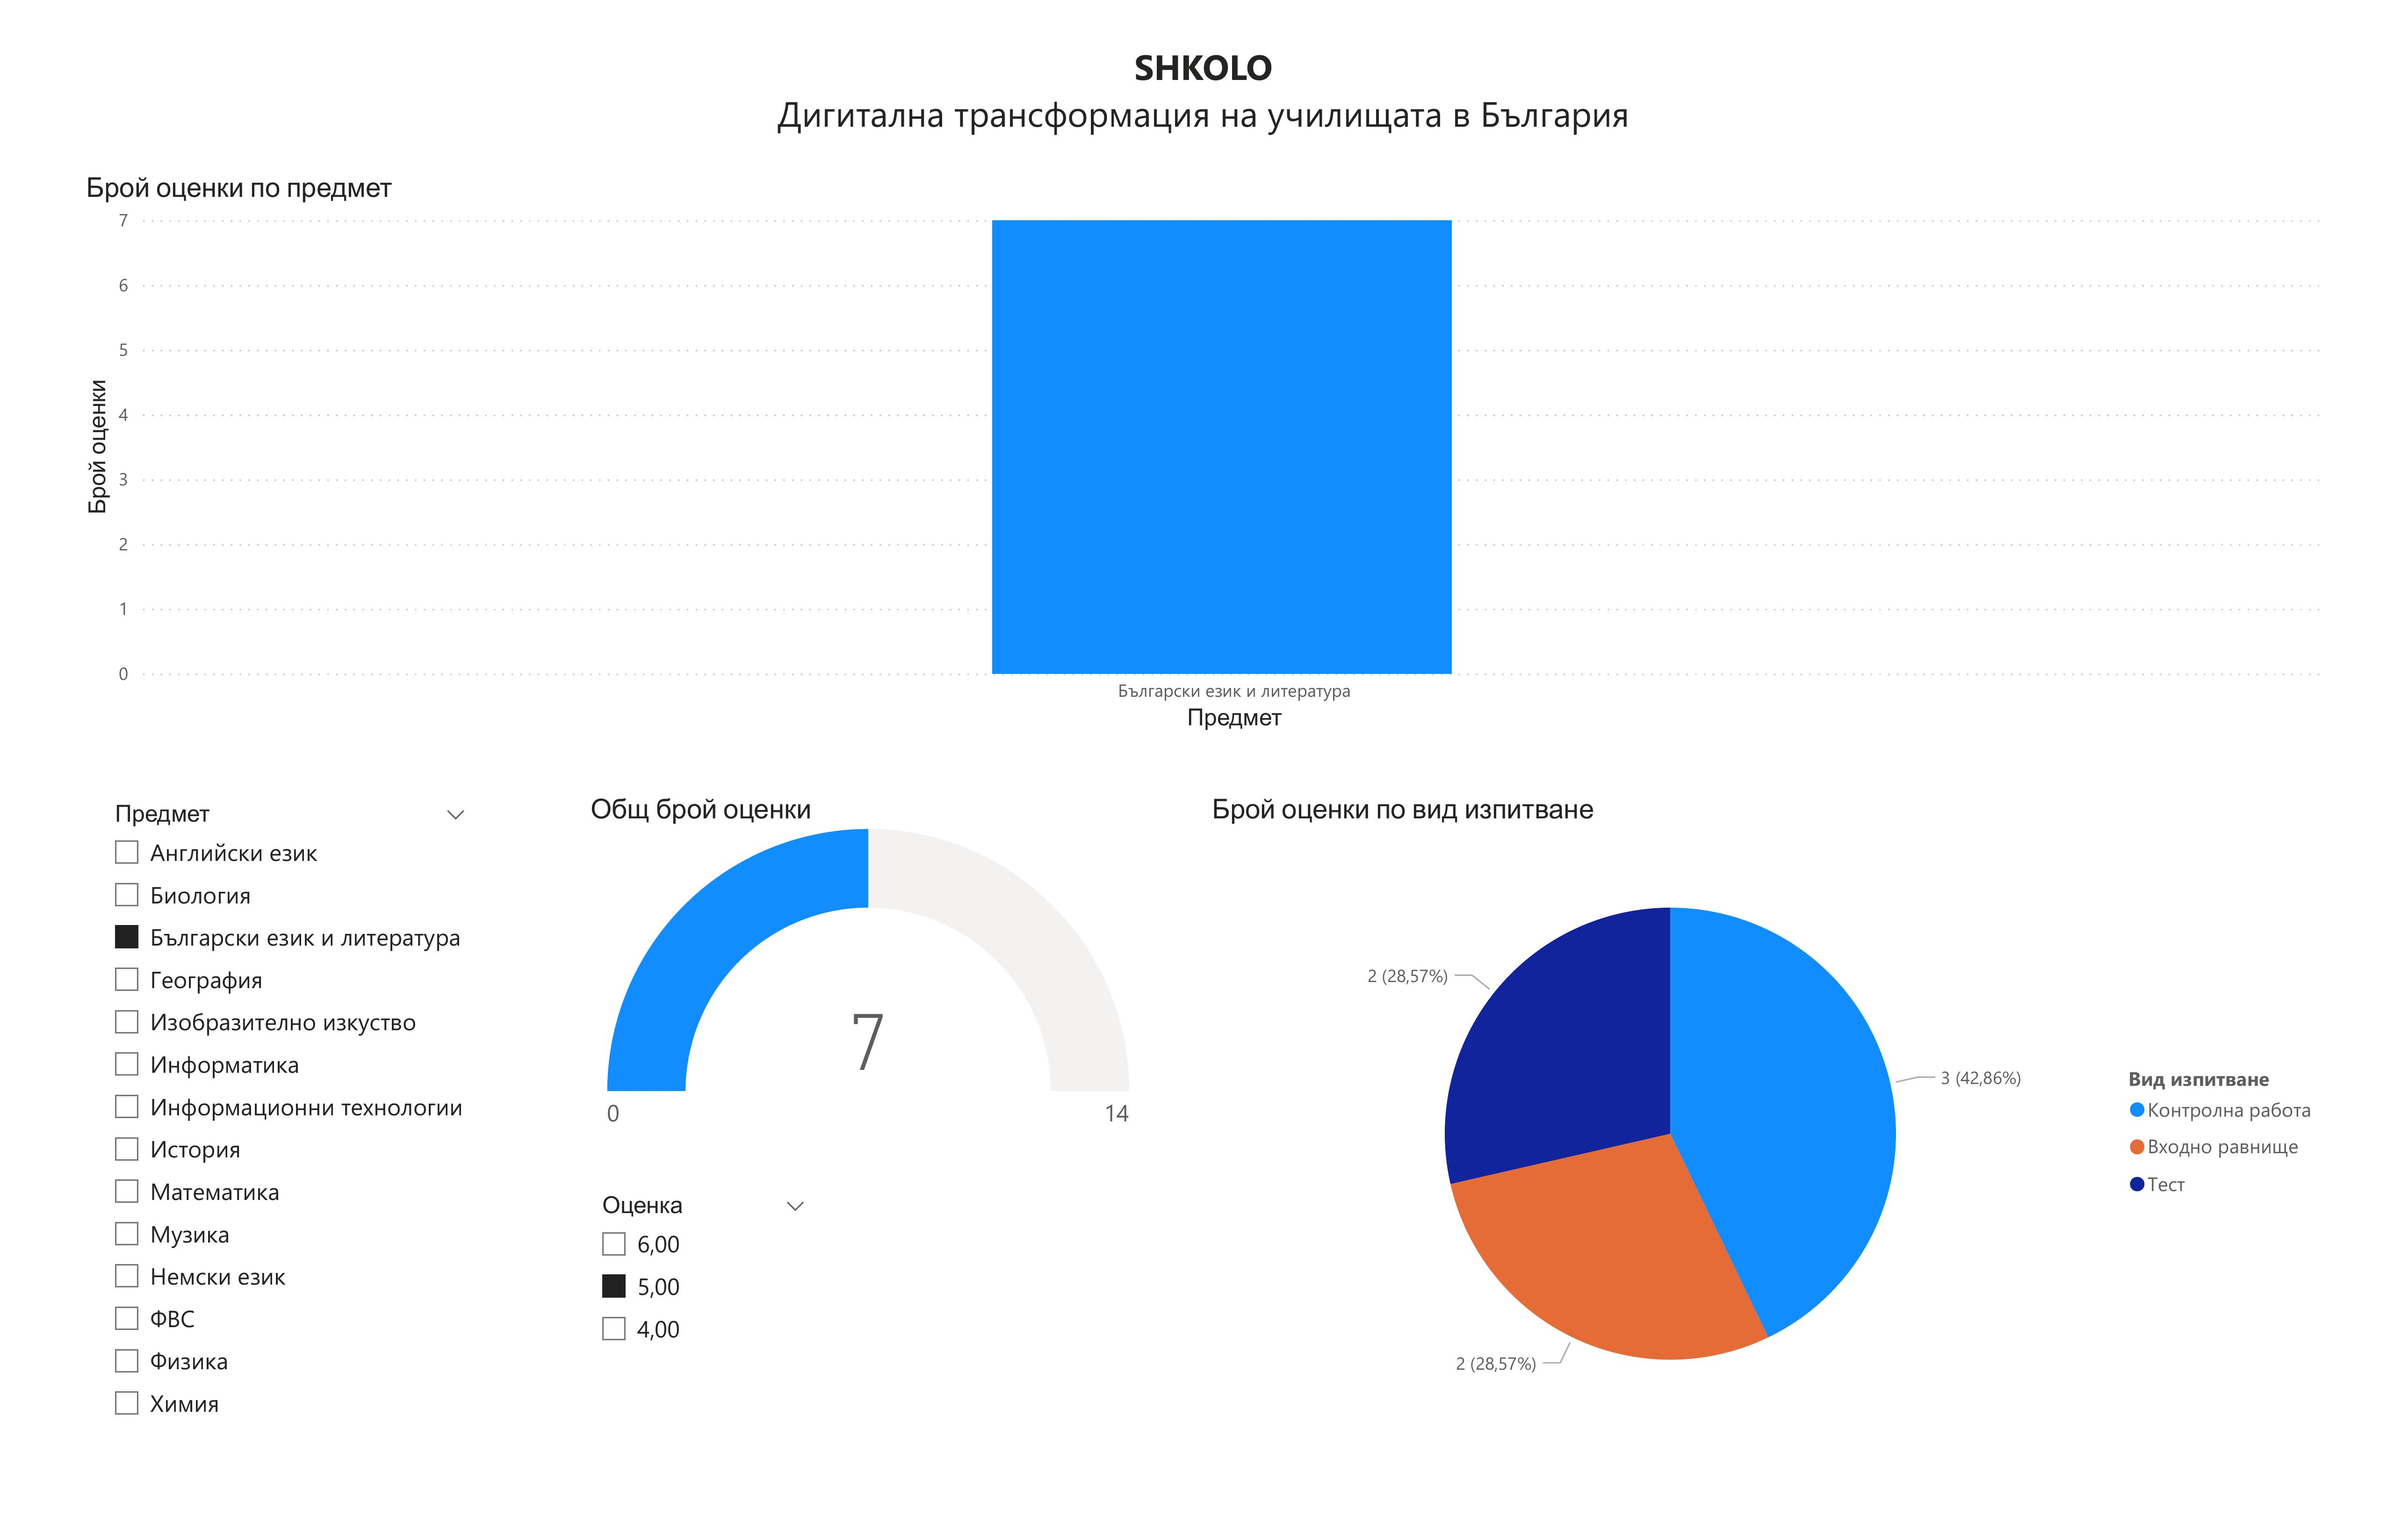

This screenshot's page, from the dashboard's own definition file:
{"tool":"powerbi","page":{"name":"Grades","canvas":[1600,1000],"ordinal":0},"visuals":[{"type":"clusteredColumnChart","title":"Брой оценки по предмет","fields":{"Y":["CountNonNull(GRADE.GRADE_ID)"],"Category":["SUBJECT.SUBJECT_NAME"]},"box":[30.2,93.8,1542.7,386.9],"z":0},{"type":"textbox","box":[495.8,0,608,78.7],"z":1000},{"type":"pieChart","title":"Брой оценки по вид изпитване","fields":{"Y":["CountNonNull(GRADE.GRADE_ID)"],"Category":["GRADE_TYPE.GRADE_TYPE_NAME"]},"box":[800.7,519.3,772.2,445.6],"z":2000},{"type":"slicer","fields":{"Values":["GRADE.GRADE_VALUE"]},"box":[375.2,787.3,164.2,154.1],"z":3000},{"type":"slicer","fields":{"Values":["SUBJECT.SUBJECT_NAME"]},"box":[42.2,519.8,265,438.8],"z":4000},{"type":"gauge","fields":{"Y":["CountNonNull(GRADE.GRADE_ID)"]},"box":[375.2,519.3,390.3,239.5],"z":5000}]}

Visuals, with their boxes on the page's 1600x1000 design canvas (x1, y1, x2, y2). These are canvas units, not pixel positions in the 2408x1532 screenshot, which may show the page scaled, cropped or inside an application window:
"Брой оценки по предмет" clusteredColumnChart: box(30, 94, 1573, 481)
textbox: box(496, 0, 1104, 79)
"Брой оценки по вид изпитване" pieChart: box(801, 519, 1573, 965)
slicer - GRADE.GRADE_VALUE: box(375, 787, 539, 941)
slicer - SUBJECT.SUBJECT_NAME: box(42, 520, 307, 959)
gauge - CountNonNull(GRADE.GRADE_ID): box(375, 519, 766, 759)
